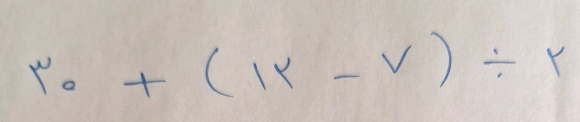character: (204, 44, 235, 99), (429, 27, 453, 90), (122, 70, 167, 100), (480, 47, 518, 81), (381, 46, 416, 78), (28, 55, 54, 97), (273, 57, 296, 93), (545, 43, 567, 80), (250, 58, 270, 93), (331, 72, 363, 83), (62, 78, 77, 94)
